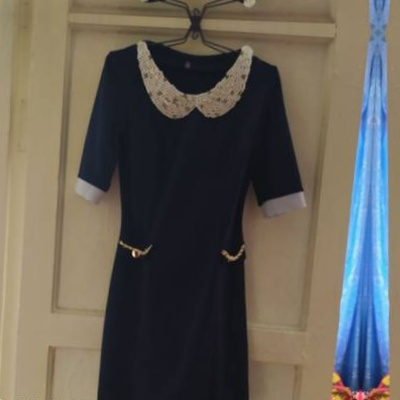Dress: (44, 34, 322, 400), (65, 0, 343, 13)
